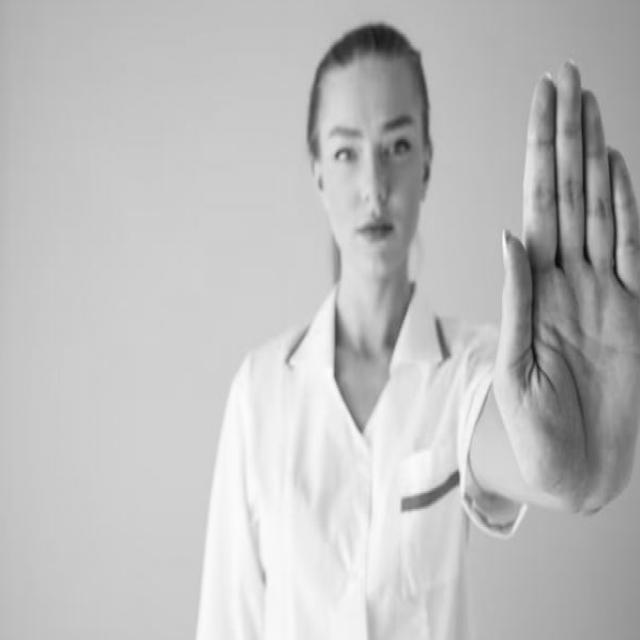stop: (487, 50, 640, 525)
